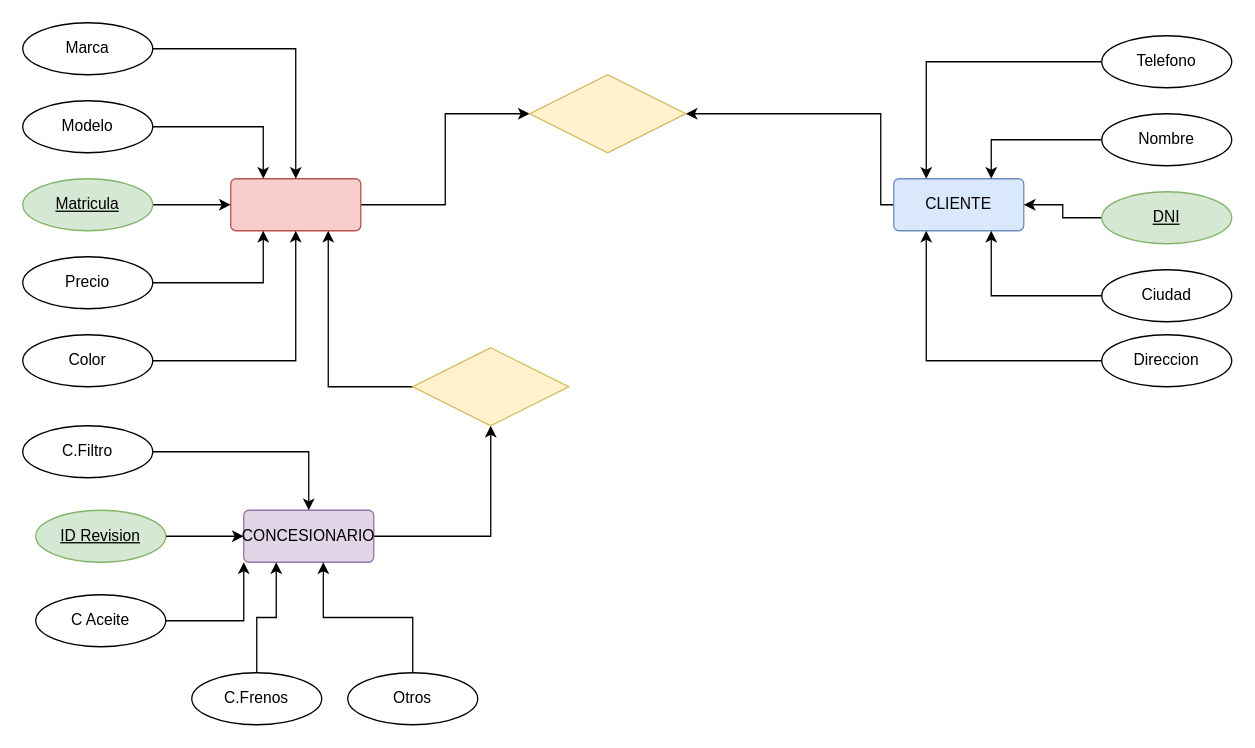
Image size: 1255x748. Some labels were removed from this diagram. The shapes that lost their labels are listed below. From the top down, each one's centre as x and y in pixels, then its label:
At point (607, 113): "COMPRA".
At point (295, 204): "COCHES".
At point (490, 386): "INSPECCION".
